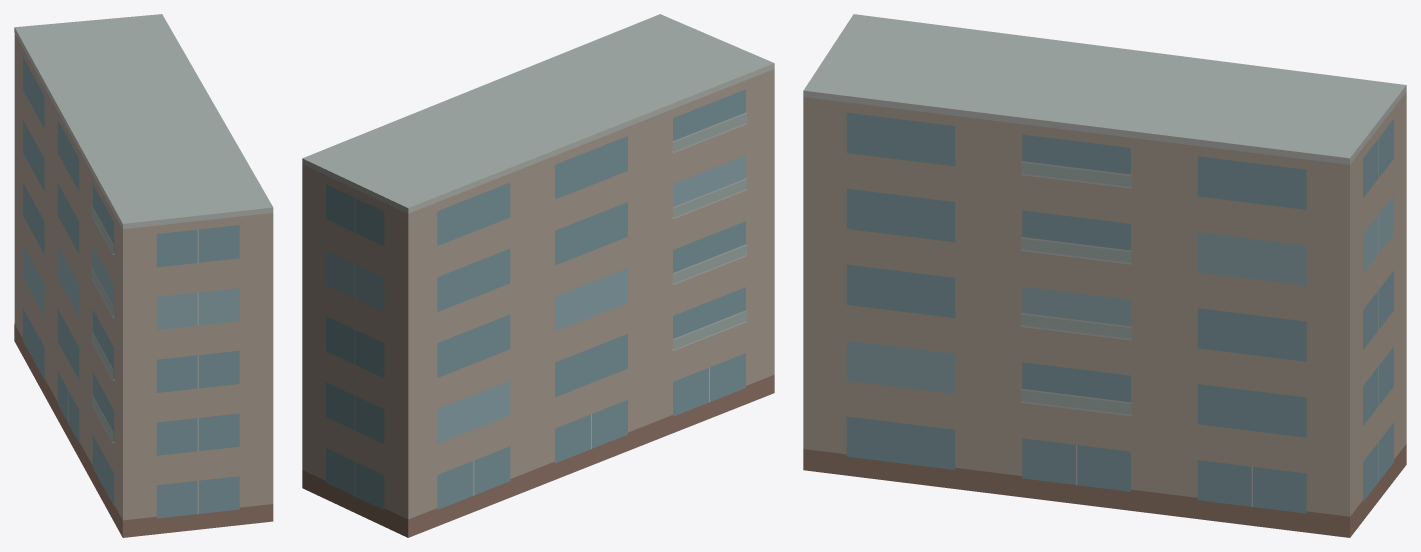
Rendered from survey-upis-32875853.glb.
3 views of the same model, side by side, from view 1: azimuth 30°, elevation 25°; view 2: azimuth 150°, elevation 25°; view 3: azimuth 270°, elevation 25° (orthographic). The views are drawn at different scales.
Visible parts, largest first — view 1: survey-upis-32875853.tmp; view 2: survey-upis-32875853.tmp; view 3: survey-upis-32875853.tmp.
Part boxes in pixels (x1,y1,x2,y2): survey-upis-32875853.tmp: [14, 14, 273, 537]; survey-upis-32875853.tmp: [302, 14, 774, 537]; survey-upis-32875853.tmp: [803, 14, 1406, 537].
Bounding box in the file's own units: 11.67 × 14.3 × 20.6.
